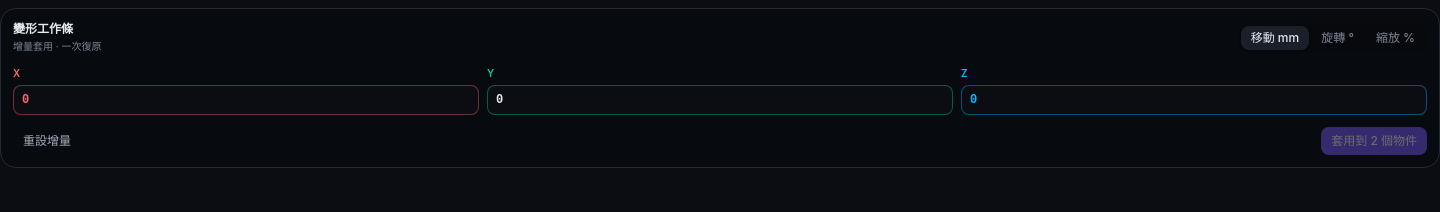
Scenario: BatchTransformPanel › preserves targets and draft after a failed request
Replace the text in the number field named "移動 X（mm）" with "10" at (246, 100), box left=13, top=85, right=479, bottom=115
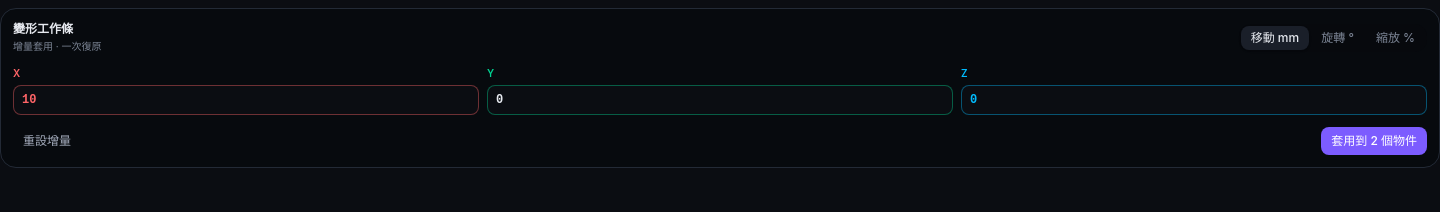
Click the button "套用到 2 個物件" at (1374, 141), box left=1321, top=127, right=1427, bottom=155
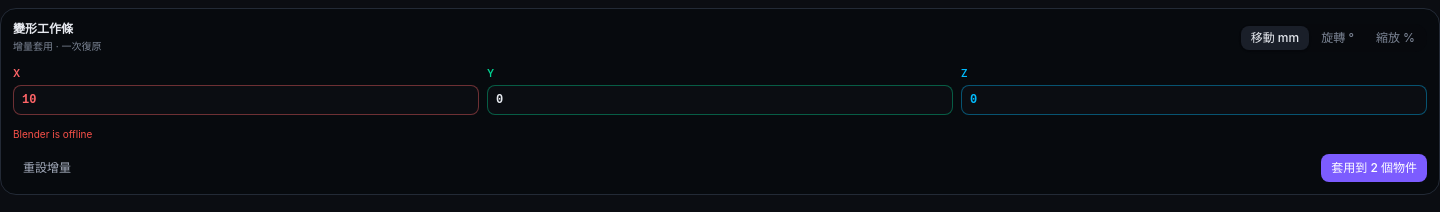
Check: the message reads "Blender is offline", box left=13, top=128, right=92, bottom=140
